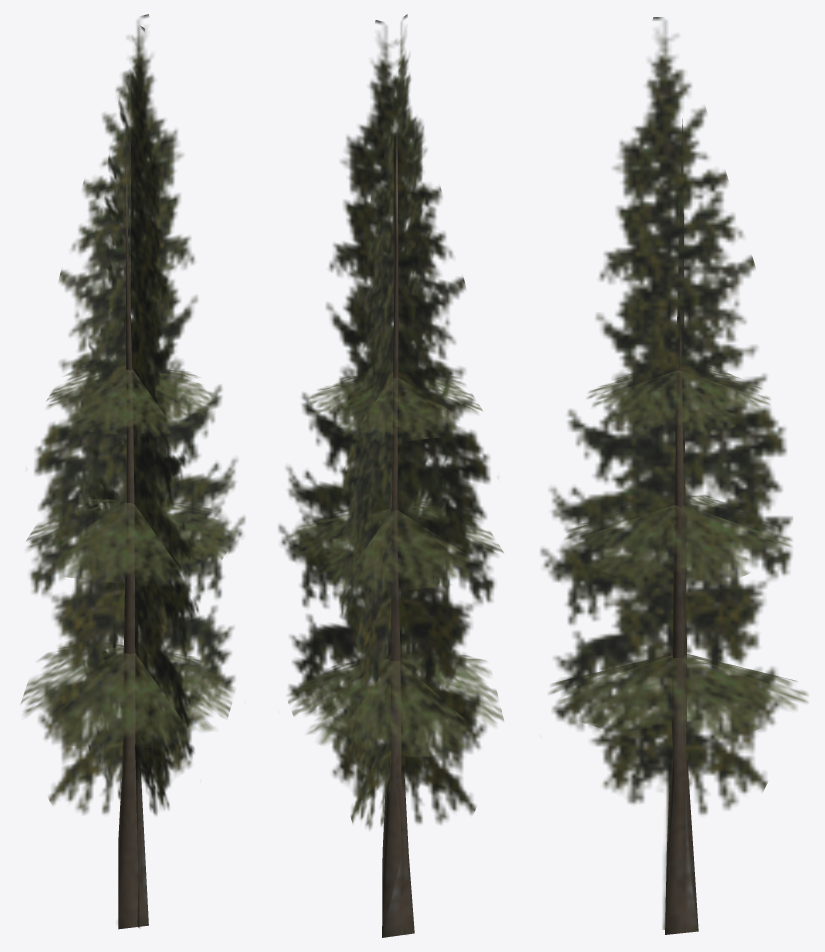
The model's file is forest_tree_3.glb.
The picture shows the model from 3 angles, left to right: view 1: azimuth 30°, elevation 25°; view 2: azimuth 150°, elevation 25°; view 3: azimuth 270°, elevation 25°; orthographic projection.
Parts seen in each view (by area): view 1: Background_Tree_Atlas.003_Background_Tree_Atlas_0; view 2: Background_Tree_Atlas.003_Background_Tree_Atlas_0; view 3: Background_Tree_Atlas.003_Background_Tree_Atlas_0.
Part boxes in pixels (bbox=[...]): Background_Tree_Atlas.003_Background_Tree_Atlas_0: bbox=[21, 14, 245, 929]; Background_Tree_Atlas.003_Background_Tree_Atlas_0: bbox=[278, 14, 503, 937]; Background_Tree_Atlas.003_Background_Tree_Atlas_0: bbox=[540, 17, 807, 934].
Bounding box in the file's own units: 3.34 × 13.01 × 3.52.
Materials: 1 (1 with a texture image).
